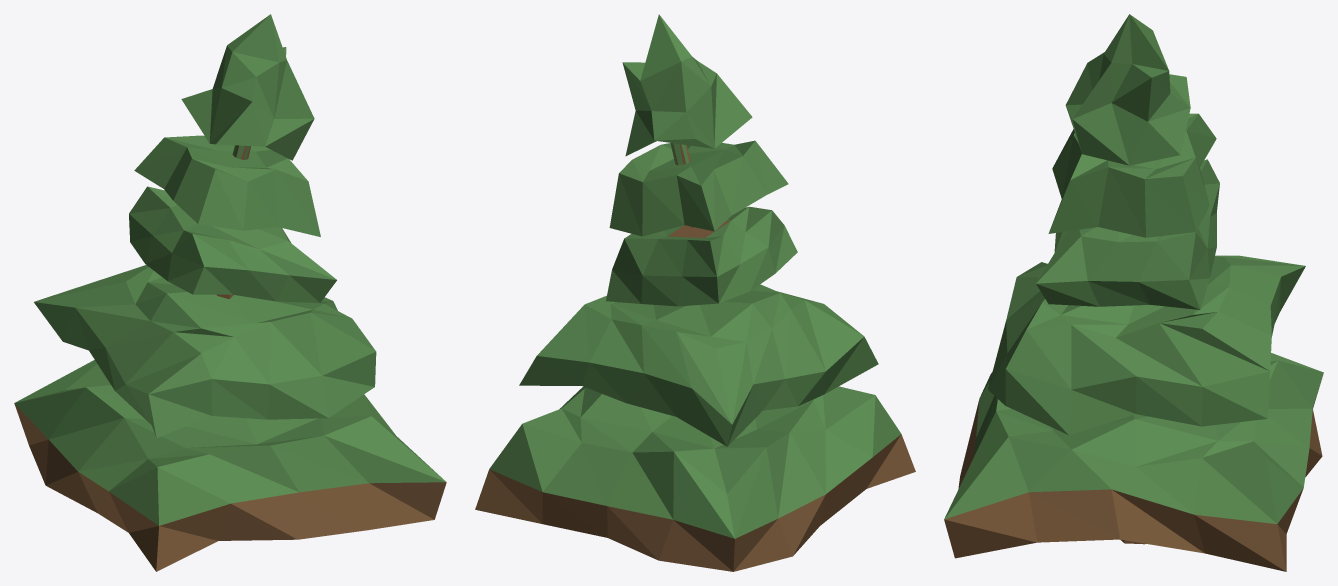
The model's file is tree3d-091.glb.
The picture shows the model from 3 angles, left to right: view 1: azimuth 30°, elevation 25°; view 2: azimuth 150°, elevation 25°; view 3: azimuth 270°, elevation 25°; orthographic projection. The views are drawn at different scales.
Visible parts, largest first — view 1: tree3d-091; view 2: tree3d-091; view 3: tree3d-091.
Part boxes in pixels (bbox=[...]): tree3d-091: bbox=[14, 14, 446, 571]; tree3d-091: bbox=[475, 14, 915, 571]; tree3d-091: bbox=[944, 14, 1323, 571].
Size of the model in its own units: 0.614 by 1 by 0.6334.
